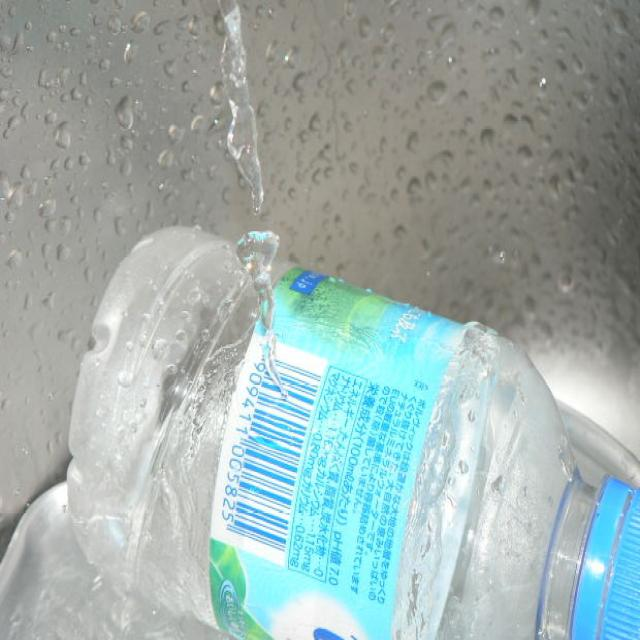plastic: (77, 248, 607, 615)
